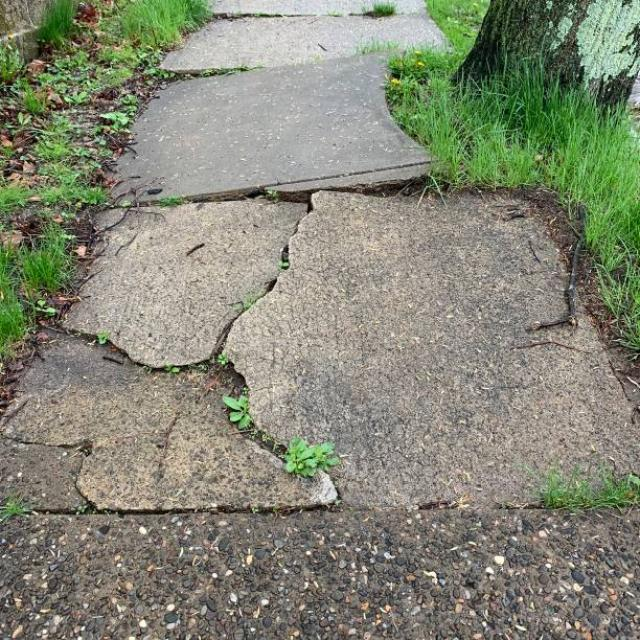hole: (160, 133, 448, 219), (85, 314, 284, 412)
